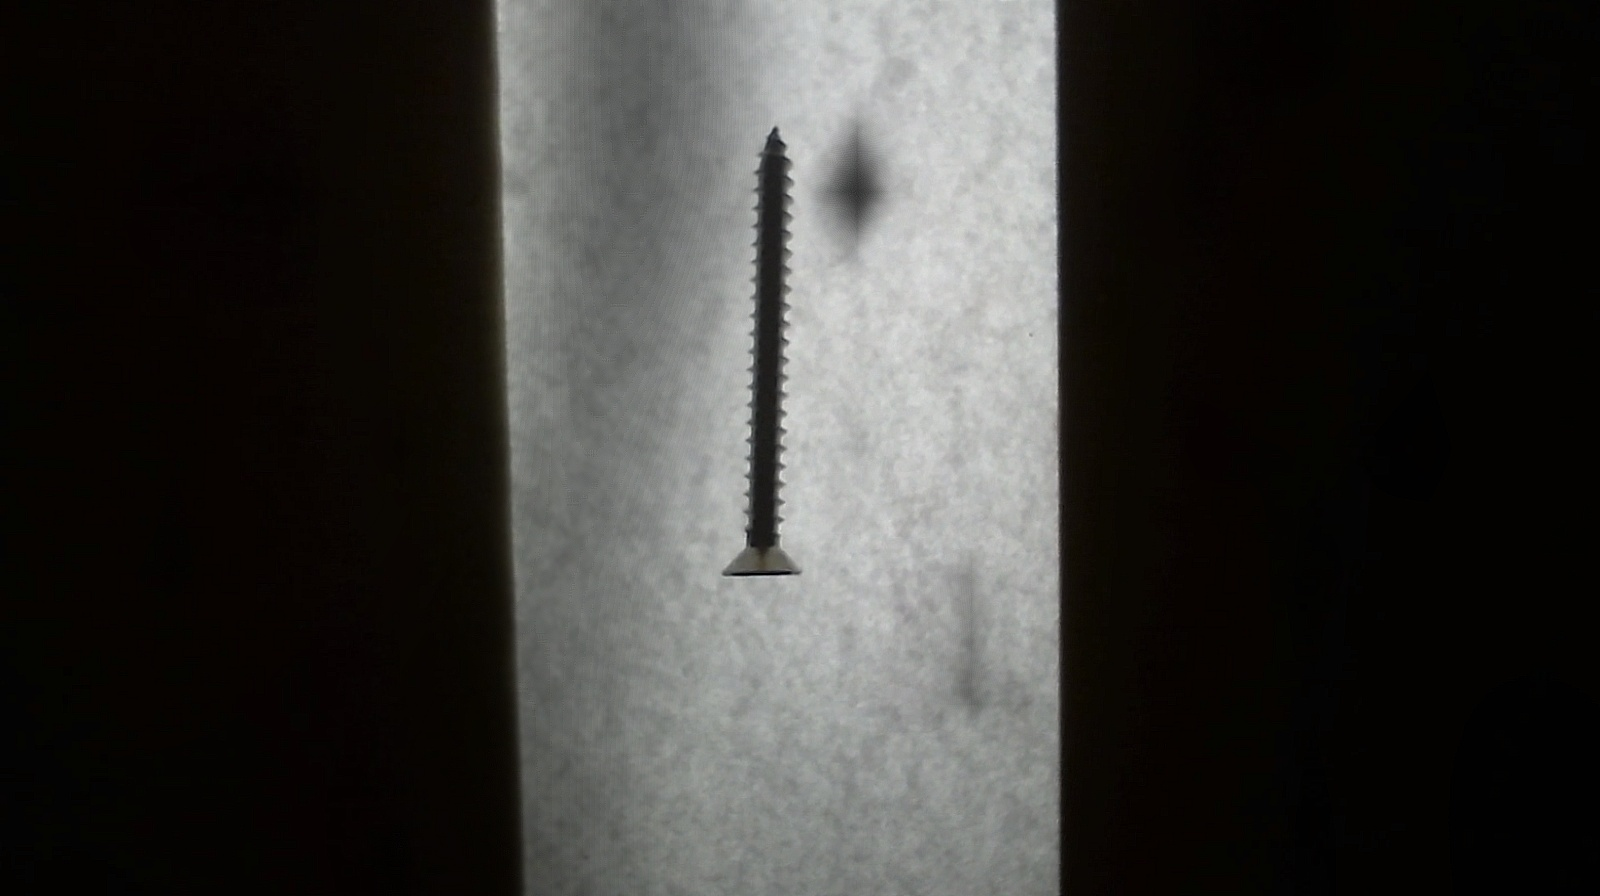S002: (677, 115, 854, 591)
